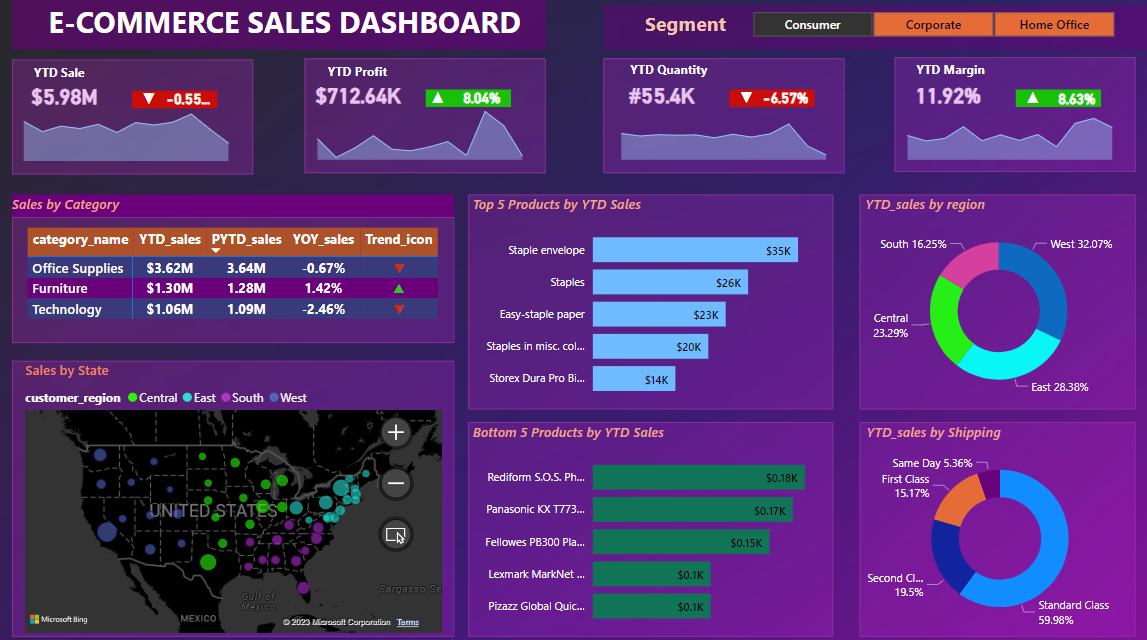

The page's visual inventory and layout, read from the dashboard file:
{"tool":"powerbi","page":{"name":"Page 1","canvas":[1280,720],"ordinal":0},"visuals":[{"type":"textbox","box":[22,0,586.1,57.6],"z":0},{"type":"card","fields":{"Values":["ecommerce_data.YTD_sales"]},"box":[26.1,81,107.1,56.3],"z":1000},{"type":"shape","title":"YTD_Sale","box":[22,68.6,264.9,126.3],"z":2000},{"type":"areaChart","fields":{"Category":["Calender.month"],"Y":["Sum(ecommerce_data.sales_per_order)"]},"box":[22,109.8,251.2,75.5],"z":3000},{"type":"shape","box":[153.7,102.9,93.3,19.2],"z":4000},{"type":"card","fields":{"Values":["ecommerce_data.YOY_sales"]},"box":[185.3,97.4,60.4,24.7],"z":5000},{"type":"card","fields":{"Values":["ecommerce_data.Sales_icon"]},"box":[153.7,97.4,37.1,24.7],"z":6000},{"type":"textbox","box":[41.2,68.6,75.5,30.2],"z":7000},{"type":"card","fields":{"Values":["ecommerce_data.YTD_Profit"]},"box":[349,80,107.1,56.3],"z":8000},{"type":"shape","title":"YTD_Sale","box":[343.1,67.3,264.9,126.3],"z":9000},{"type":"areaChart","fields":{"Category":["Calender.month"],"Y":["Sum(ecommerce_data.profit_per_order)"]},"box":[344.9,108.8,251.2,75.5],"z":10000},{"type":"shape","box":[476.7,102,93.3,19.2],"z":11000},{"type":"card","fields":{"Values":["ecommerce_data.YOY_Profit"]},"box":[508.2,96.5,60.4,24.7],"z":12000},{"type":"card","fields":{"Values":["ecommerce_data.Profit_icon"]},"box":[470.8,96.1,37.1,24.7],"z":13000},{"type":"textbox","box":[363.7,67.3,92,28.8],"z":14000},{"type":"card","fields":{"Values":["ecommerce_data.YTD_Concatenated_Qty"]},"box":[681.8,79,107.1,56.3],"z":15000},{"type":"shape","title":"YTD_Sale","box":[671.2,67.3,264.9,126.3],"z":16000},{"type":"shape","box":[809.5,101,93.3,19.2],"z":17000},{"type":"areaChart","fields":{"Category":["Calender.month"],"Y":["Sum(ecommerce_data.order_quantity)"]},"box":[677.7,107.8,251.2,75.5],"z":18000},{"type":"card","fields":{"Values":["ecommerce_data.YOY_Qty"]},"box":[841,95.5,60.4,24.7],"z":19000},{"type":"card","fields":{"Values":["ecommerce_data.Qty_icon"]},"box":[809.8,96.1,37.1,24.7],"z":20000},{"type":"textbox","box":[695.9,65.9,107.1,28.8],"z":21000},{"type":"card","fields":{"Values":["ecommerce_data.YTD_Profit_Margin"]},"box":[996,79.1,107.1,56.3],"z":22000},{"type":"shape","title":"YTD_Sale","box":[991,65.9,264.9,126.3],"z":23000},{"type":"shape","box":[1123.6,101.1,93.3,19.2],"z":24000},{"type":"areaChart","fields":{"Category":["Calender.month"],"Y":["ecommerce_data.Profit_Margin"]},"box":[991.9,108,251.2,75.5],"z":25000},{"type":"card","fields":{"Values":["ecommerce_data.YOY_Profit_Margin"]},"box":[1161.1,97.4,60.4,24.7],"z":26000},{"type":"card","fields":{"Values":["ecommerce_data.Profit_icon"]},"box":[1123.9,96.2,37.1,24.7],"z":27000},{"type":"textbox","box":[1010,66,107.1,28.8],"z":28000},{"type":"shape","title":"       Sales by Category ","box":[22,216.9,485.9,163.3],"z":29000},{"type":"pivotTable","fields":{"Rows":["ecommerce_data.category_name"],"Values":["ecommerce_data.YTD_sales","ecommerce_data.PYTD_sales","ecommerce_data.YOY_sales","ecommerce_data.Sales_icon"]},"box":[34.3,248.4,488.6,120.8],"z":30000},{"type":"shape","title":"       Sales by Category ","box":[22,399.4,485.9,303.3],"z":31000},{"type":"map","title":"Sales by State","fields":{"Y":["us_state_long_lat_codes.latitude"],"X":["us_state_long_lat_codes.longitude"],"Size":["ecommerce_data.YTD_sales"],"Series":["ecommerce_data.customer_region"]},"box":[31.6,399.4,466.7,303.3],"z":32000},{"type":"shape","title":"       Sales by Category ","box":[522.9,216.9,400.8,236.1],"z":33000},{"type":"shape","title":"       Sales by Category ","box":[522.9,466.7,400.8,236.1],"z":34000},{"type":"barChart","title":"Top 5 Products by YTD Sales ","fields":{"Category":["ecommerce_data.product_name"],"Y":["ecommerce_data.YTD_sales"]},"box":[522.9,216.9,400.8,236.1],"z":35000},{"type":"barChart","title":"Bottom 5 Products by YTD Sales ","fields":{"Category":["ecommerce_data.product_name"],"Y":["ecommerce_data.YTD_sales"]},"box":[522.9,466.7,400.8,236.1],"z":36000},{"type":"shape","title":"       Sales by Category ","box":[952.5,216.9,303.3,236.1],"z":37000},{"type":"shape","title":"       Sales by Category ","box":[952.5,466.7,303.3,236.1],"z":38000},{"type":"donutChart","title":"YTD_sales by region","fields":{"Category":["ecommerce_data.customer_region"],"Y":["ecommerce_data.YTD_sales"]},"box":[953.9,216.9,303.3,236.1],"z":39000},{"type":"donutChart","title":"YTD_sales by Shipping","fields":{"Y":["ecommerce_data.YTD_sales"],"Category":["ecommerce_data.shipping_type"]},"box":[955.3,466.7,303.3,236.1],"z":40000},{"type":"textbox","box":[671.2,9.6,602.5,48],"z":41000},{"type":"slicer","fields":{"Values":["ecommerce_data.customer_segment"]},"box":[809.8,9.6,446.1,38.4],"z":42000}]}

Visuals, with their boxes in screenshot pixels (x1, y1, x2, y2), scaled from the page's 1280x720 canvas onto the 1147x640 screenshot:
textbox: x1=20 y1=0 x2=545 y2=51
card - ecommerce_data.YTD_sales: x1=23 y1=72 x2=119 y2=122
"YTD_Sale" shape: x1=20 y1=61 x2=257 y2=173
areaChart - Calender.month x Sum(ecommerce_data.sales_per_order): x1=20 y1=98 x2=245 y2=165
shape: x1=138 y1=91 x2=221 y2=109
card - ecommerce_data.YOY_sales: x1=166 y1=87 x2=220 y2=109
card - ecommerce_data.Sales_icon: x1=138 y1=87 x2=171 y2=109
textbox: x1=37 y1=61 x2=105 y2=88
card - ecommerce_data.YTD_Profit: x1=313 y1=71 x2=409 y2=121
"YTD_Sale" shape: x1=307 y1=60 x2=545 y2=172
areaChart - Calender.month x Sum(ecommerce_data.profit_per_order): x1=309 y1=97 x2=534 y2=164
shape: x1=427 y1=91 x2=511 y2=108
card - ecommerce_data.YOY_Profit: x1=455 y1=86 x2=510 y2=108
card - ecommerce_data.Profit_icon: x1=422 y1=85 x2=455 y2=107
textbox: x1=326 y1=60 x2=408 y2=85
card - ecommerce_data.YTD_Concatenated_Qty: x1=611 y1=70 x2=707 y2=120
"YTD_Sale" shape: x1=601 y1=60 x2=839 y2=172
shape: x1=725 y1=90 x2=809 y2=107
areaChart - Calender.month x Sum(ecommerce_data.order_quantity): x1=607 y1=96 x2=832 y2=163
card - ecommerce_data.YOY_Qty: x1=754 y1=85 x2=808 y2=107
card - ecommerce_data.Qty_icon: x1=726 y1=85 x2=759 y2=107
textbox: x1=624 y1=59 x2=720 y2=84
card - ecommerce_data.YTD_Profit_Margin: x1=893 y1=70 x2=988 y2=120
"YTD_Sale" shape: x1=888 y1=59 x2=1125 y2=171
shape: x1=1007 y1=90 x2=1090 y2=107
areaChart - Calender.month x ecommerce_data.Profit_Margin: x1=889 y1=96 x2=1114 y2=163
card - ecommerce_data.YOY_Profit_Margin: x1=1040 y1=87 x2=1095 y2=109
card - ecommerce_data.Profit_icon: x1=1007 y1=86 x2=1040 y2=107
textbox: x1=905 y1=59 x2=1001 y2=84
"       Sales by Category " shape: x1=20 y1=193 x2=455 y2=338
pivotTable - ecommerce_data.category_name x ecommerce_data.YTD_sales: x1=31 y1=221 x2=469 y2=328
"       Sales by Category " shape: x1=20 y1=355 x2=455 y2=625
"Sales by State" map: x1=28 y1=355 x2=447 y2=625
"       Sales by Category " shape: x1=469 y1=193 x2=828 y2=403
"       Sales by Category " shape: x1=469 y1=415 x2=828 y2=625
"Top 5 Products by YTD Sales " barChart: x1=469 y1=193 x2=828 y2=403
"Bottom 5 Products by YTD Sales " barChart: x1=469 y1=415 x2=828 y2=625
"       Sales by Category " shape: x1=854 y1=193 x2=1125 y2=403
"       Sales by Category " shape: x1=854 y1=415 x2=1125 y2=625
"YTD_sales by region" donutChart: x1=855 y1=193 x2=1127 y2=403
"YTD_sales by Shipping" donutChart: x1=856 y1=415 x2=1128 y2=625
textbox: x1=601 y1=9 x2=1141 y2=51
slicer - ecommerce_data.customer_segment: x1=726 y1=9 x2=1125 y2=43
